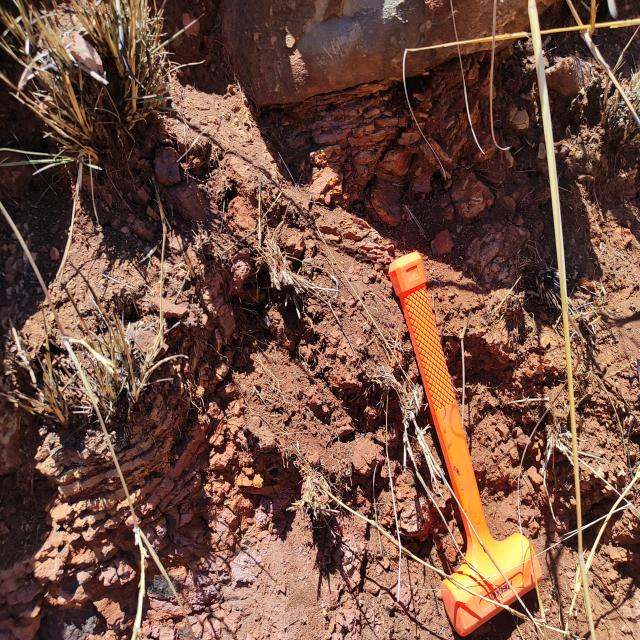Orange_hammer: (387, 249, 544, 637)
